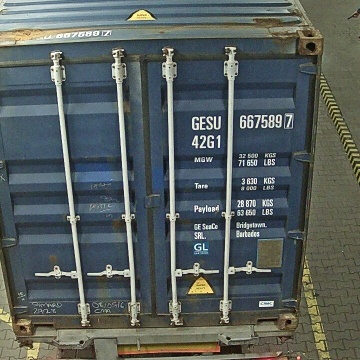serial_id: (192, 113, 293, 129)
